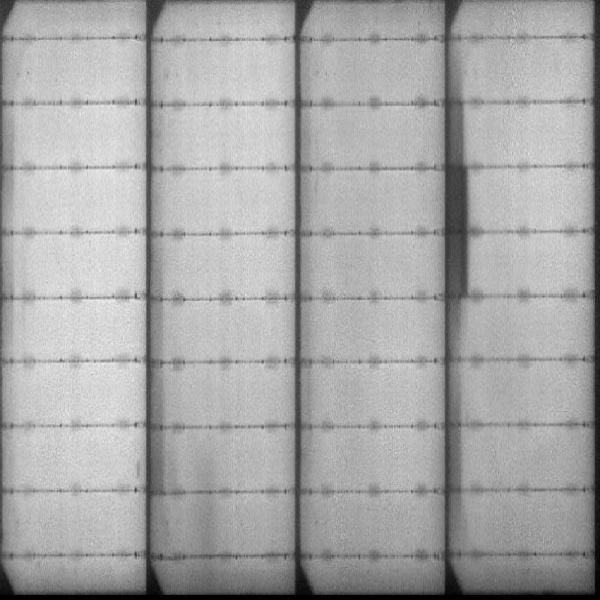black_border: (446, 55, 473, 299), (145, 256, 166, 493), (446, 301, 462, 523)
